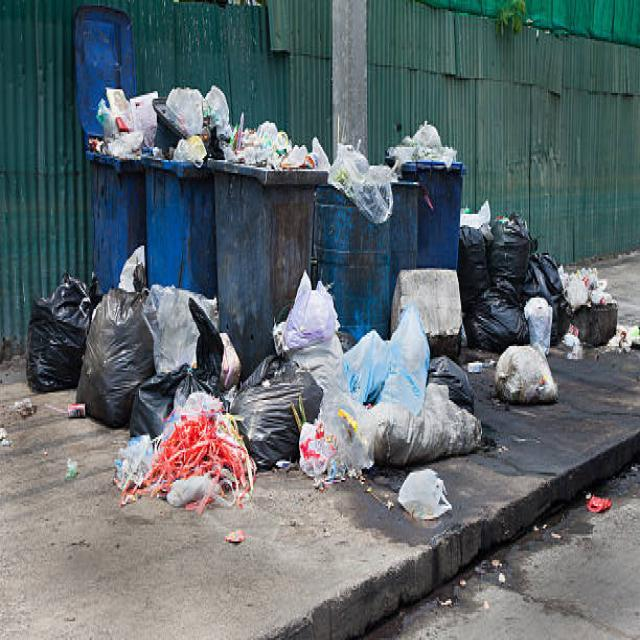garbage: (22, 242, 256, 528), (233, 264, 487, 524), (454, 196, 640, 412), (85, 78, 232, 171), (226, 102, 333, 198), (330, 132, 400, 226), (389, 111, 462, 179)
